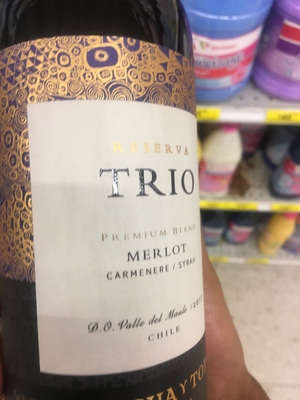trio merlot: (7, 17, 229, 400)
